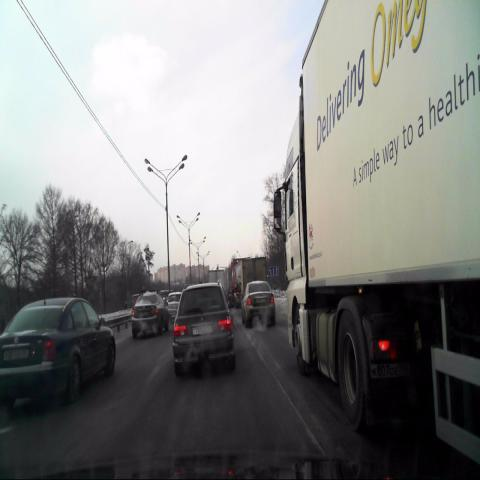5_15_1: (268, 266, 279, 277)
